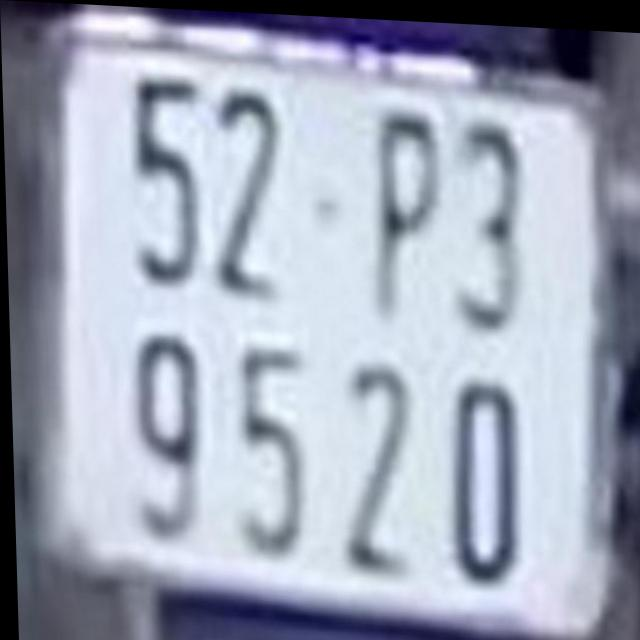0: (444, 369, 516, 575)
2: (216, 74, 291, 294), (346, 355, 414, 582)
3: (448, 112, 526, 326)
5: (238, 336, 300, 560), (133, 72, 198, 283)
9: (136, 335, 198, 544)
P: (373, 102, 444, 326)
